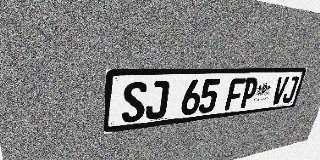5: (198, 79, 221, 114)
6: (180, 79, 204, 116)
F: (224, 78, 246, 110)
J: (145, 81, 170, 120), (281, 76, 300, 103)
P: (239, 77, 259, 109)
S: (121, 81, 147, 123)
V: (270, 76, 289, 105)
